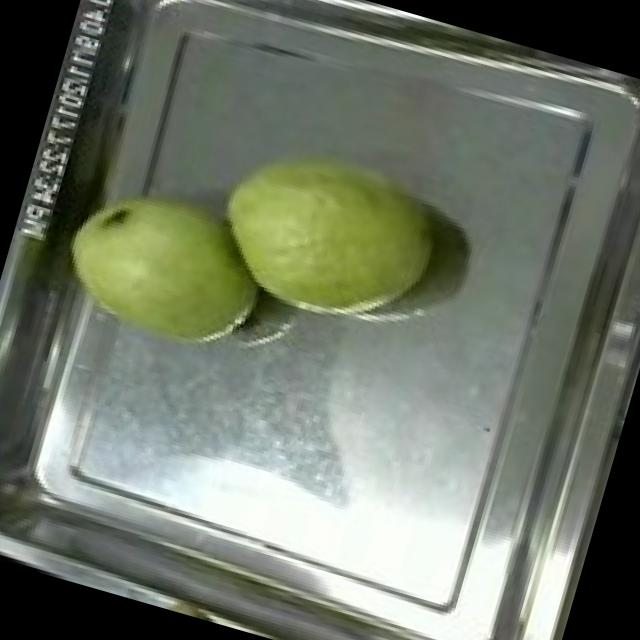Fruit: (187, 107, 466, 350), (37, 156, 287, 378)
